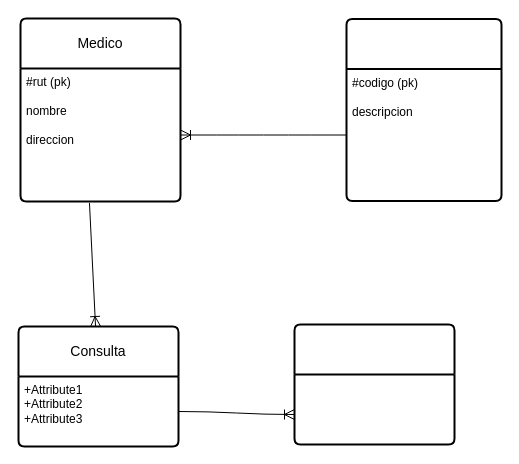
Some shapes in this 519 by 464 pixel diagram are drawn without their labels. The box of each missing label's shape, as (x1, y1, x2, y2) in pixels:
Especialidad: (345, 18, 502, 202)
Usuario: (293, 323, 455, 445)
